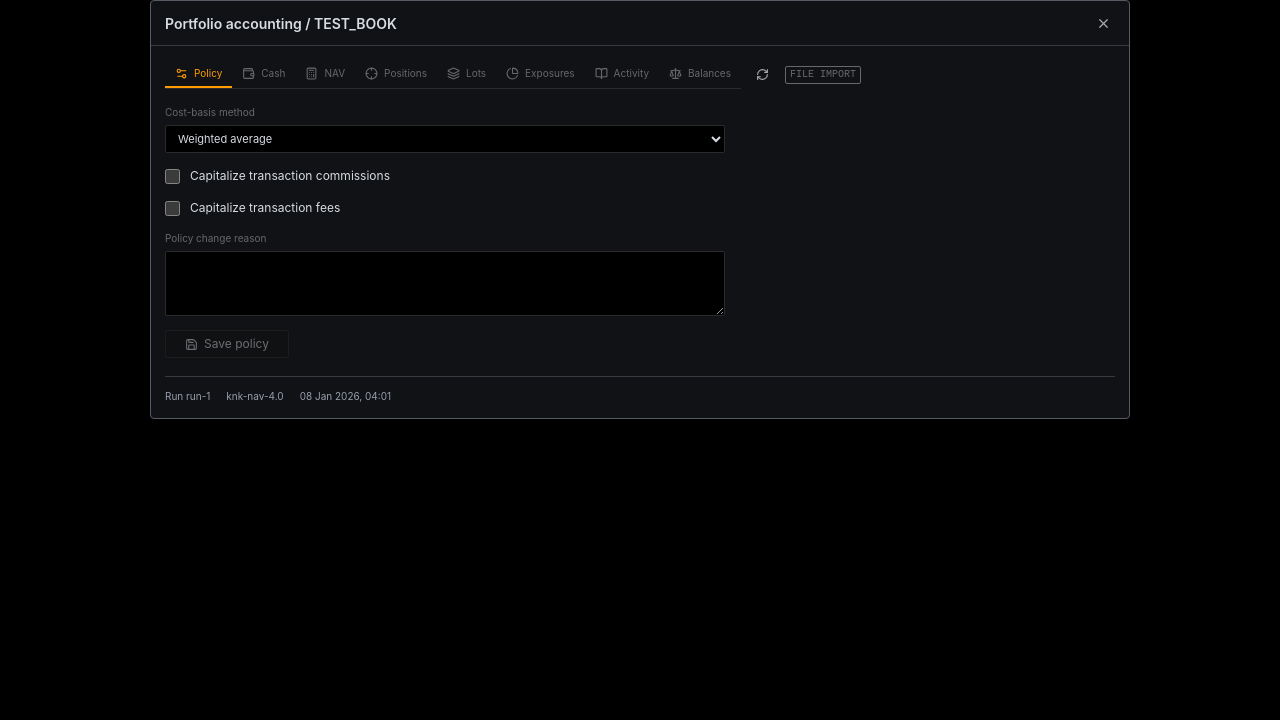
Test: accounting controls › opens position detail from the saved accounting run
Expected: the dropdown labelled "Cost-basis method" is shown, [165,125,725,153]
Step 1. Click the button "Positions" → coordinates (396, 74), box [355,60,437,88]
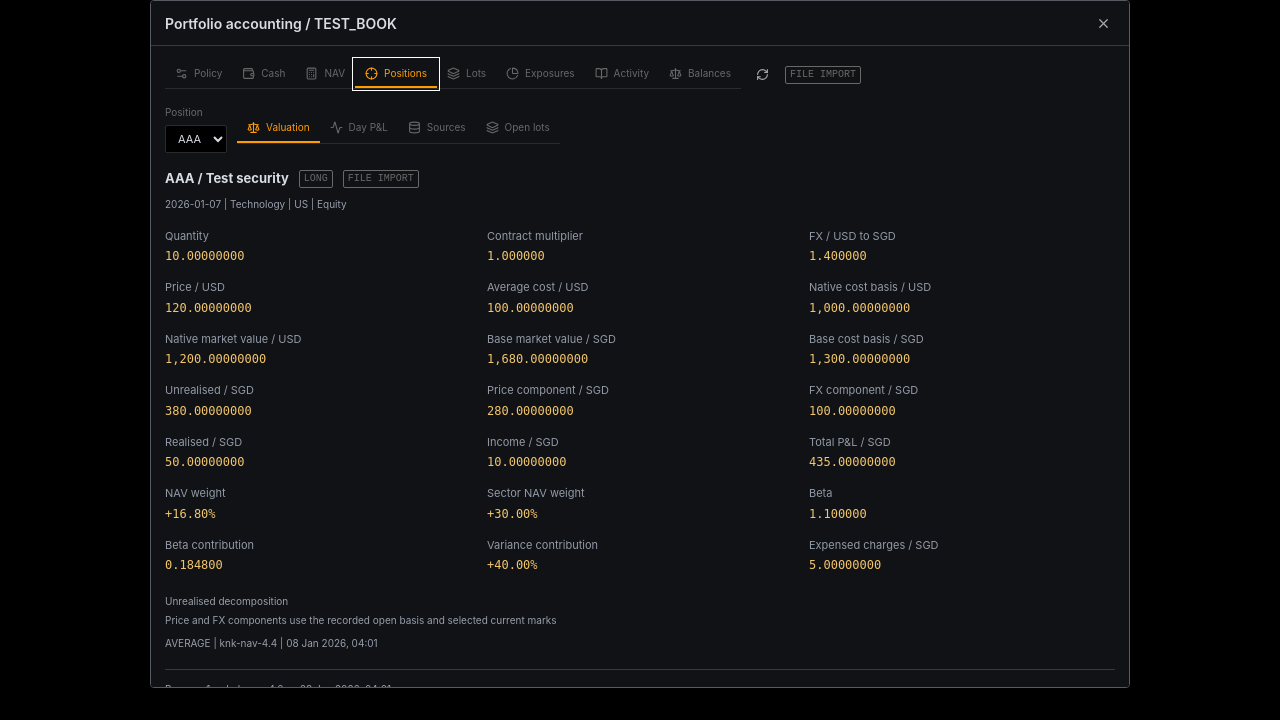
Expected: the text "AAA / Test security" is shown, [165,169,289,188]
Expected: the text "Base market value / SGD" is shown, [487,332,616,346]
